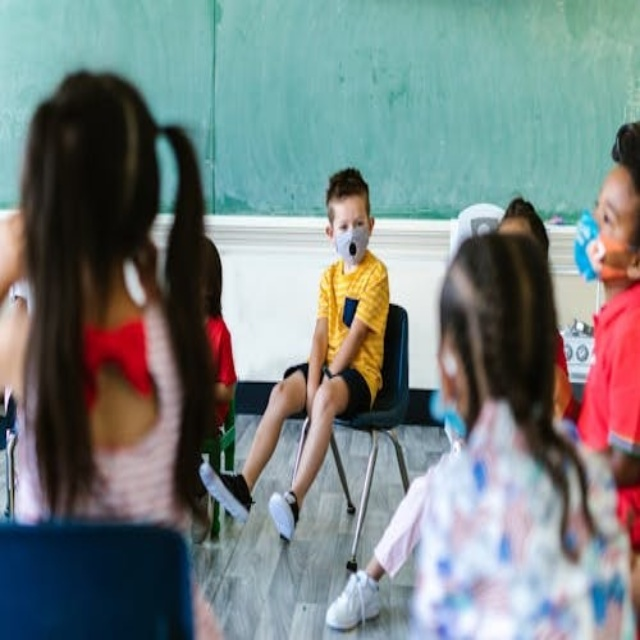Mascara: (570, 208, 623, 286), (329, 223, 372, 263)
Sin_gafas: (585, 186, 630, 227), (333, 208, 372, 231)
